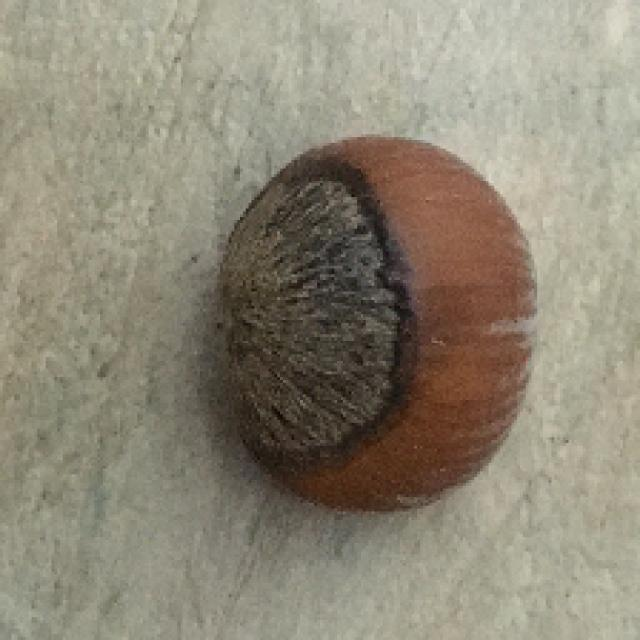damagedHazelnut: (215, 126, 535, 529)
